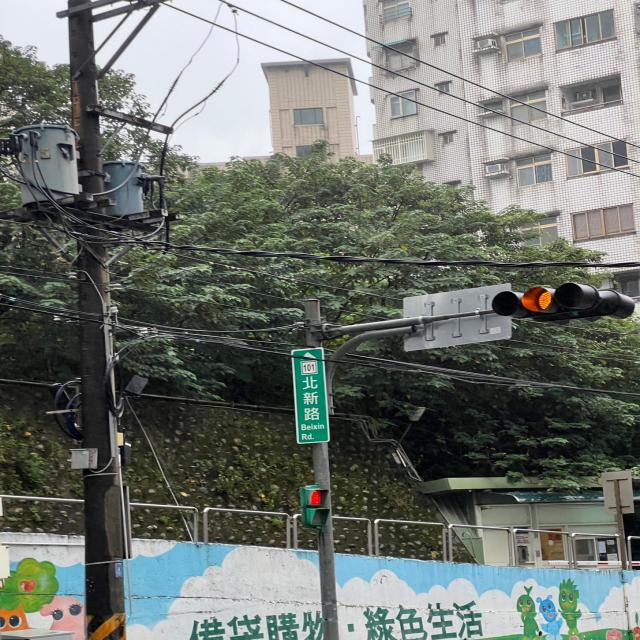red light: (299, 485, 330, 528)
yellow light: (491, 286, 598, 318)
